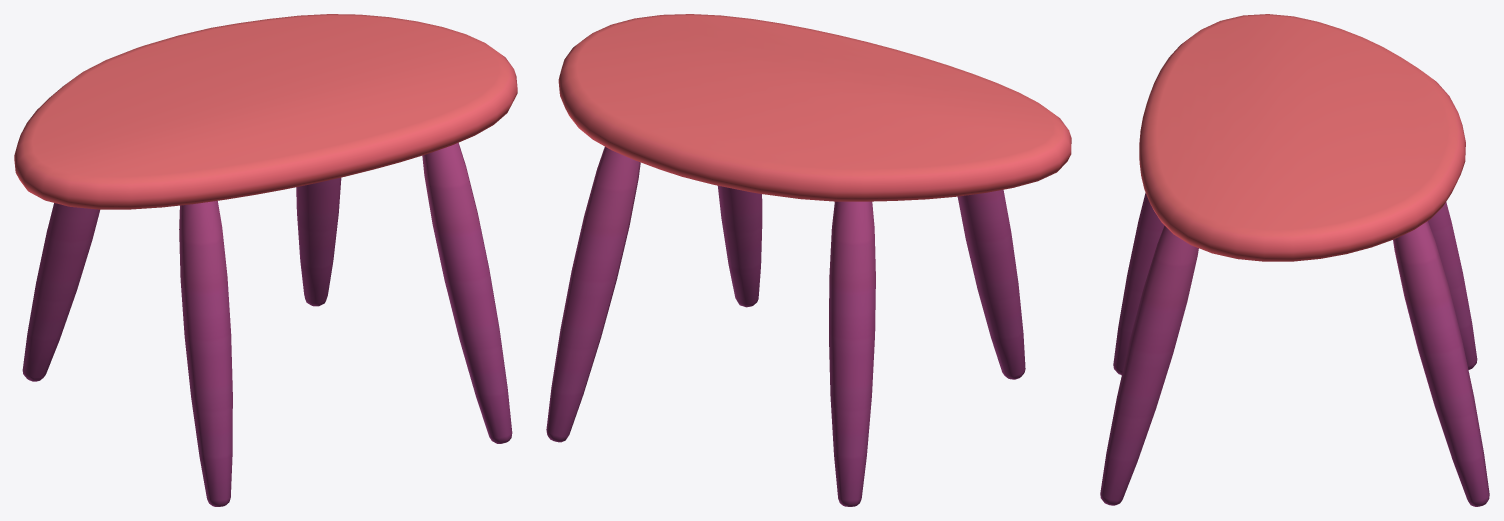
Rendered from Kitchen_Table_10.glb.
3 views of the same model, side by side, from view 1: azimuth 30°, elevation 25°; view 2: azimuth 150°, elevation 25°; view 3: azimuth 270°, elevation 25° (orthographic). The views are drawn at different scales.
Parts seen in each view (by area): view 1: Kitchen_Table_10; view 2: Kitchen_Table_10; view 3: Kitchen_Table_10.
Part boxes in pixels (x1=…): Kitchen_Table_10: x1=14, y1=14, x2=517, y2=506; Kitchen_Table_10: x1=546, y1=14, x2=1071, y2=506; Kitchen_Table_10: x1=1100, y1=14, x2=1489, y2=506.
Bounding box in the file's own units: 1.18 × 0.7403 × 0.847.
Materials: 1 (1 with a texture image).
